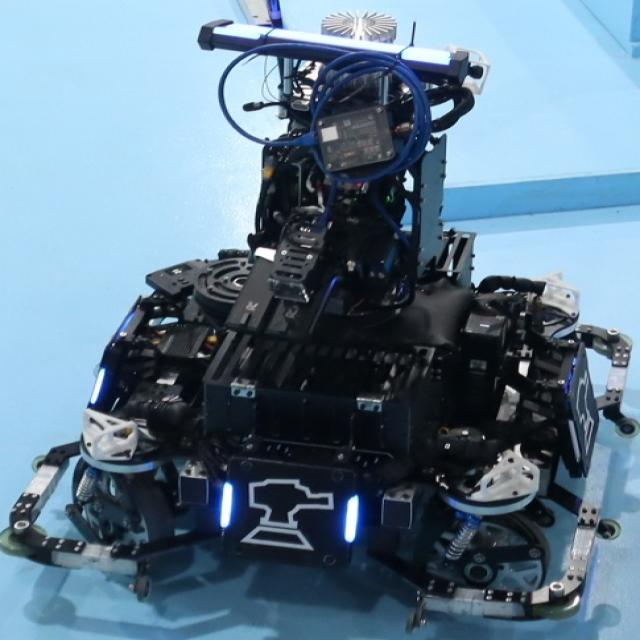Bs: (214, 468, 360, 553)
